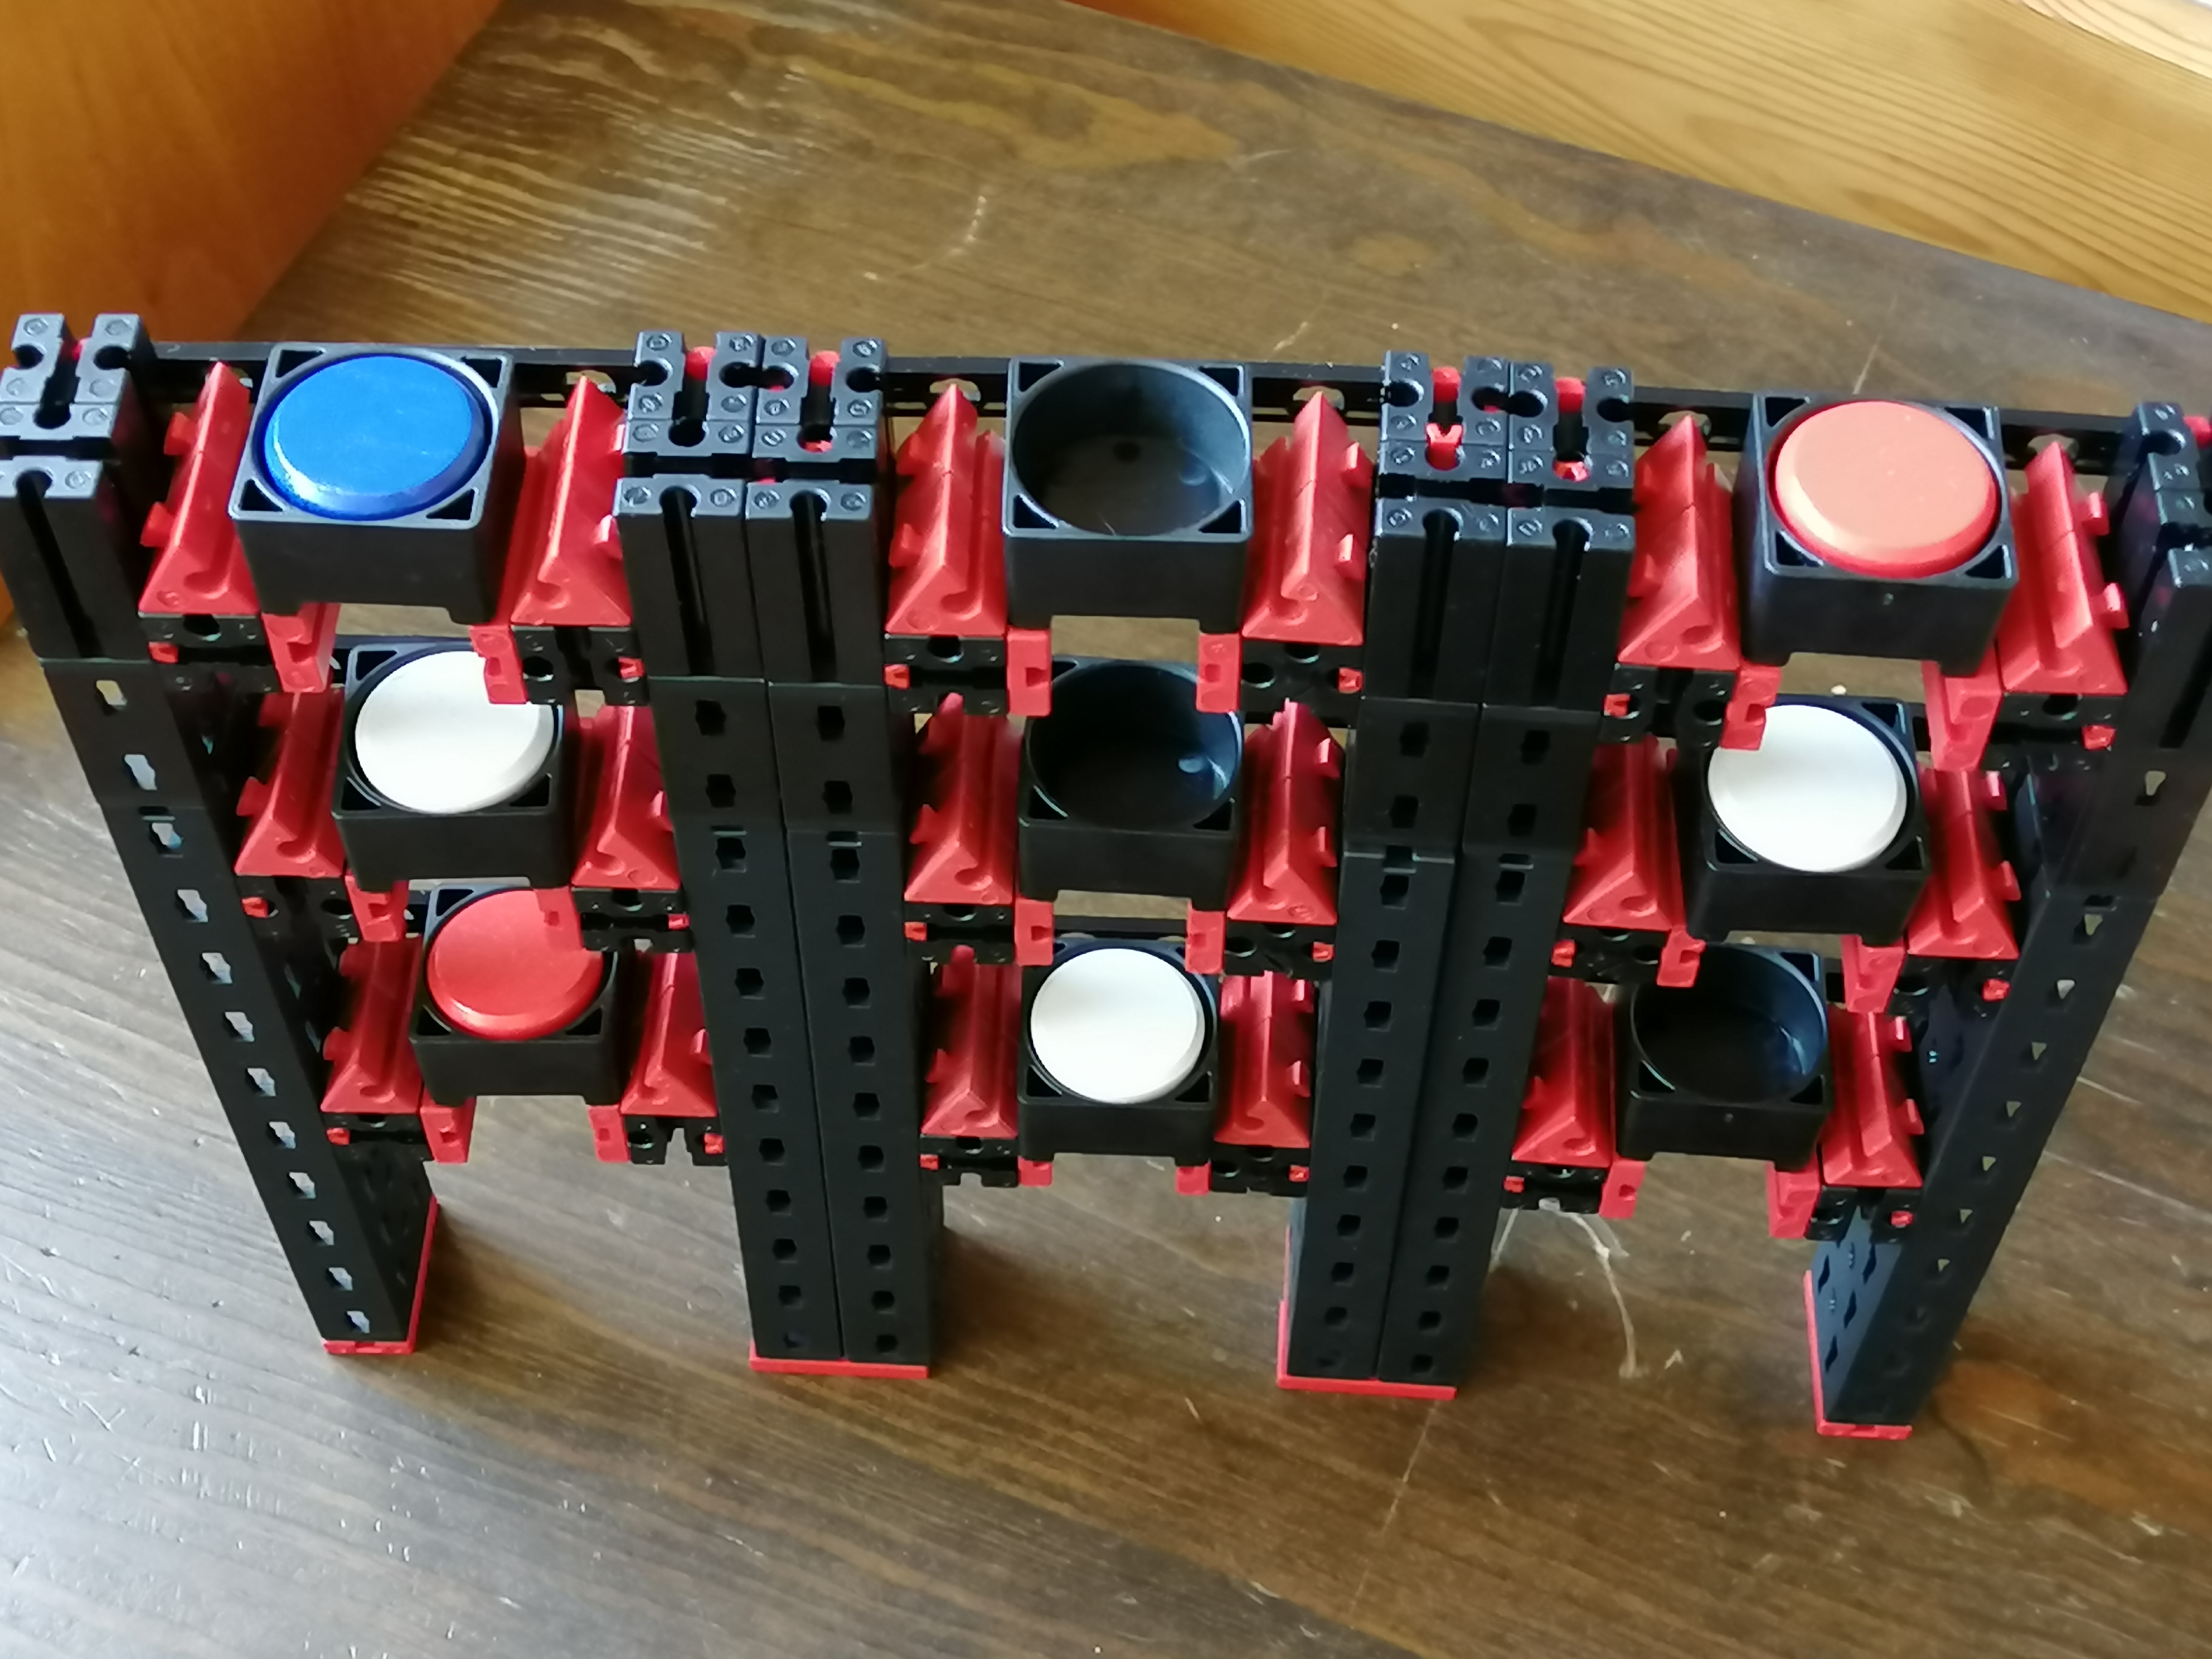Behaelter: (1743, 403, 1996, 674), (1000, 366, 1245, 633), (249, 355, 507, 605), (1686, 749, 1925, 939), (1015, 728, 1235, 910), (340, 711, 582, 871), (1019, 974, 1219, 1161), (1623, 997, 1820, 1154), (413, 950, 629, 1089)
WerkStueck: (1784, 408, 1987, 572), (263, 359, 477, 504), (1721, 749, 1907, 870), (347, 699, 549, 803), (1033, 971, 1205, 1093), (416, 948, 610, 1039)
